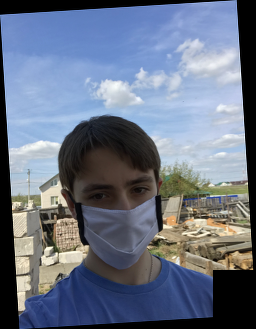with_mask: (74, 164, 164, 270)
